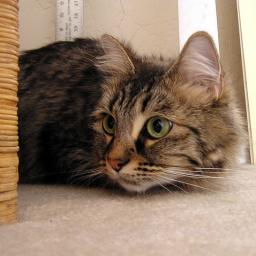catnose: (103, 153, 131, 173)
